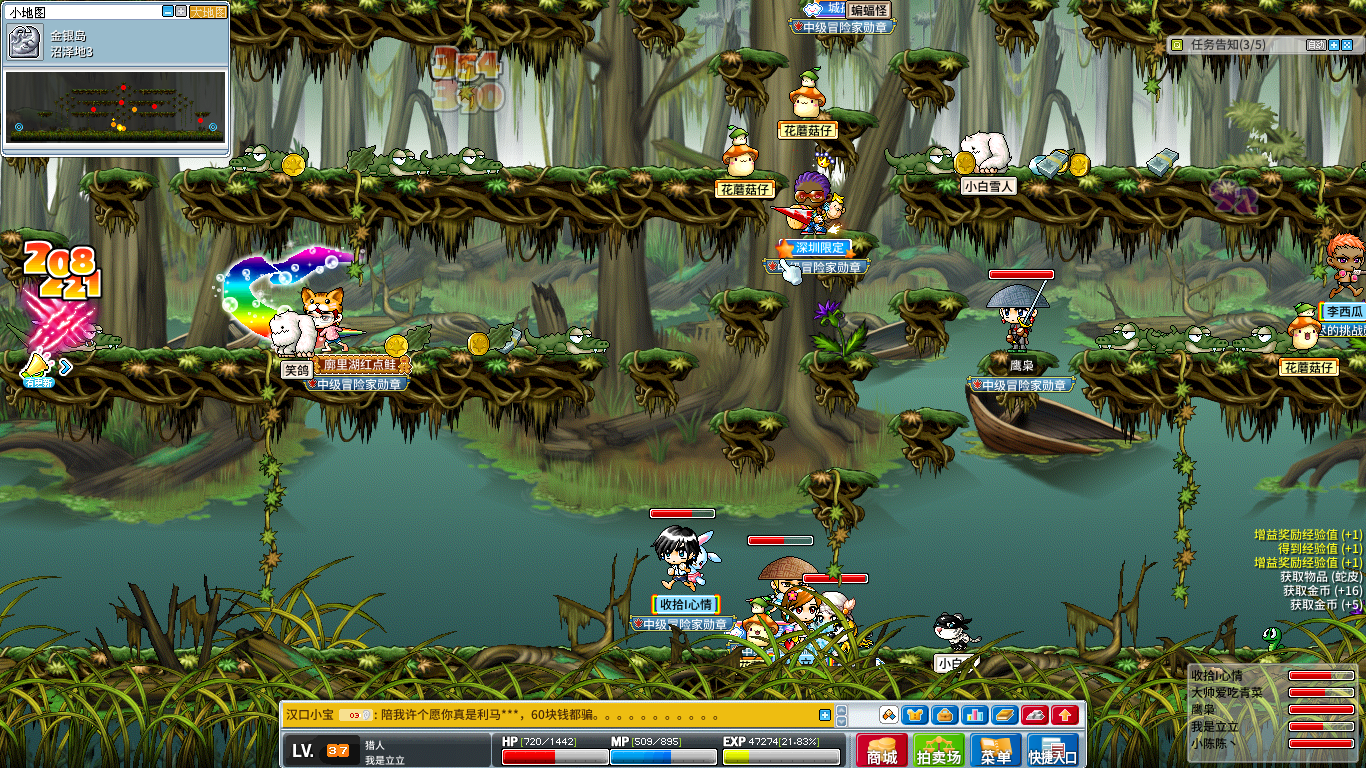monster: (1262, 627, 1290, 649)
